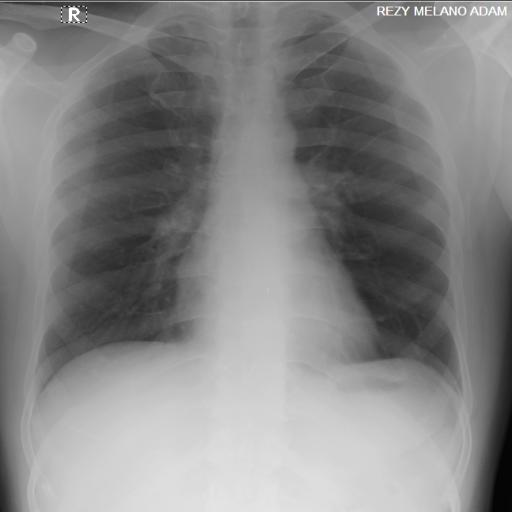normal: (22, 7, 481, 436)
